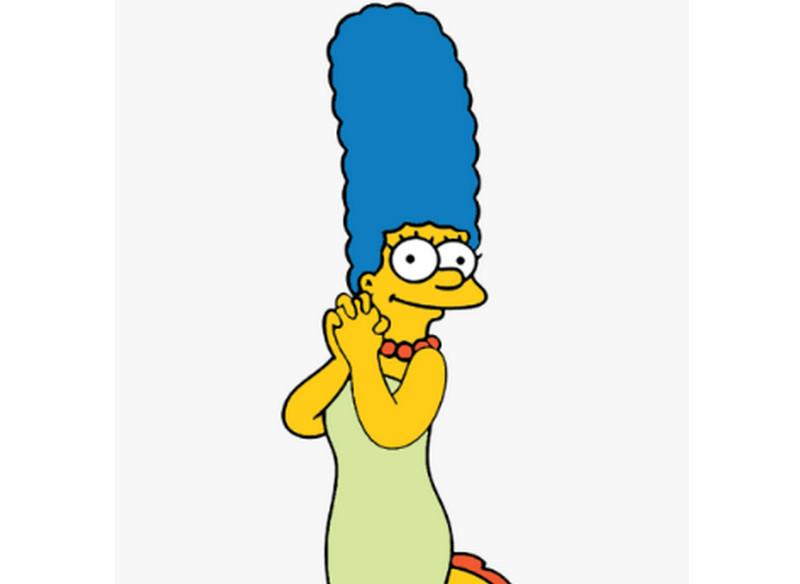Marge: (267, 0, 555, 584)
